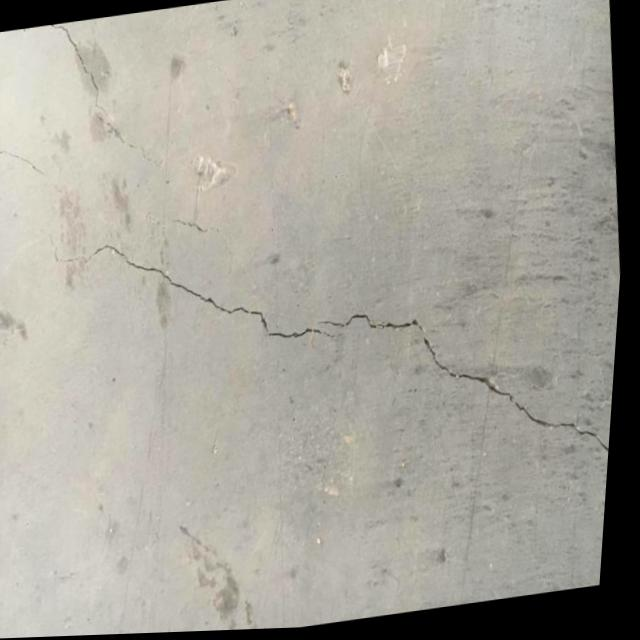Crack: (84, 175, 630, 544)
